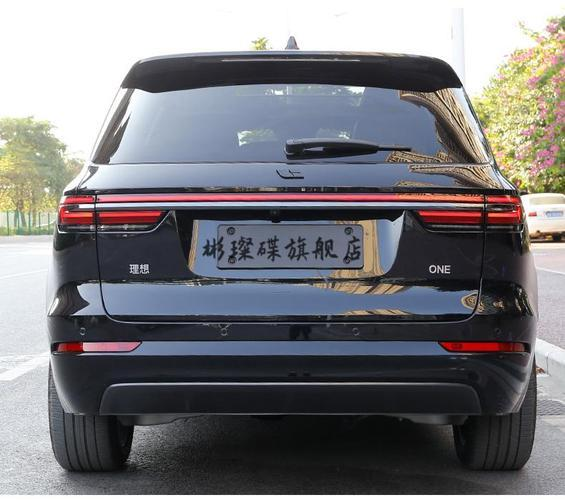Li Auto: (276, 168, 305, 180)
